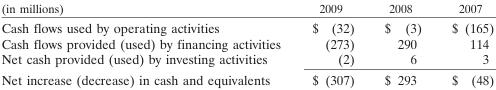table: (0, 0, 493, 87)
table column: (0, 0, 295, 87), (295, 0, 368, 87), (368, 0, 435, 87), (435, 0, 493, 87)
table column header: (0, 0, 493, 17)
table row: (0, 17, 493, 35), (0, 51, 493, 69), (0, 69, 493, 87), (0, 0, 493, 17), (0, 35, 493, 51)
